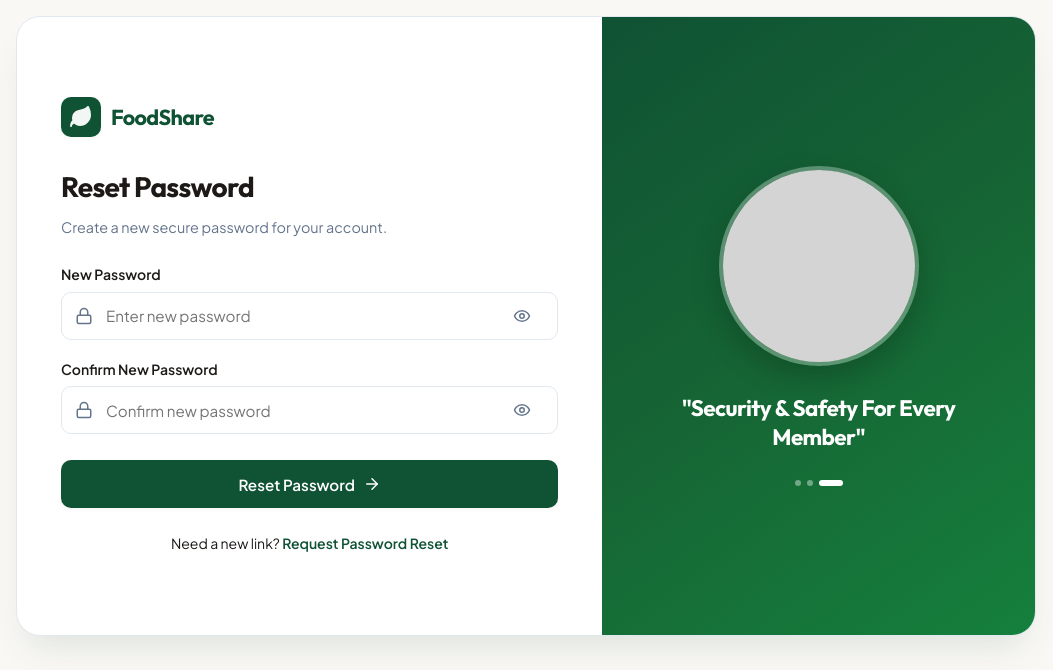
Test case: ResetPasswordPage Component › submits valid token and new password and displays success screen
This screenshot has width=1053, height=670.
Type "ValidPass123!" into the password field labelled "New Password". click: (310, 316)
box: 61,292 -> 558,340
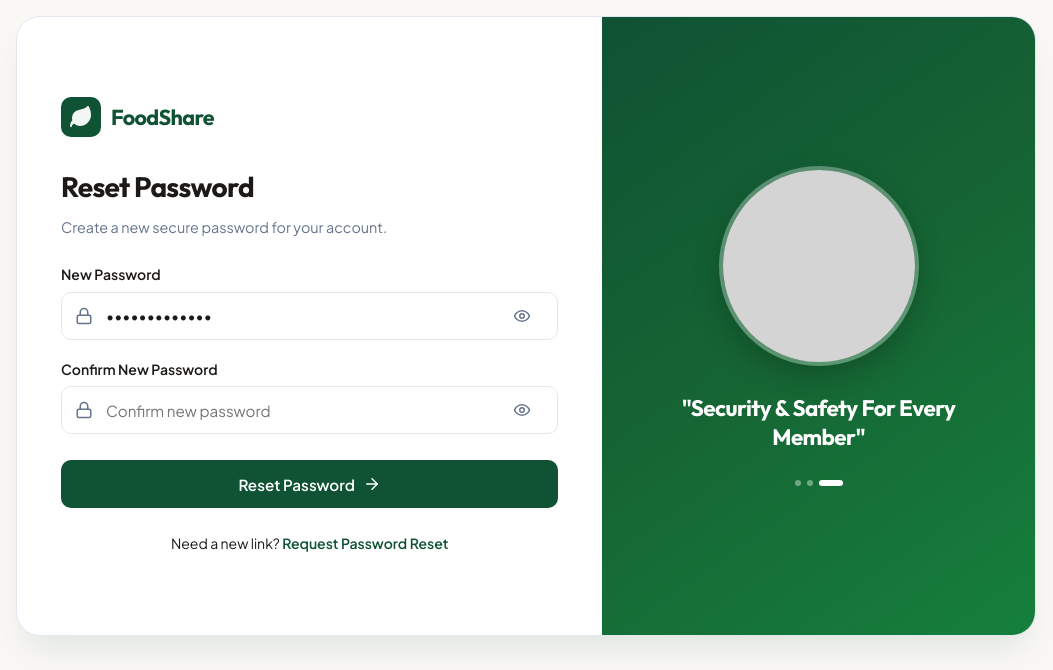
Type "ValidPass123!" into the password field labelled "Confirm New Password". click: (310, 410)
box: 61,386 -> 558,434
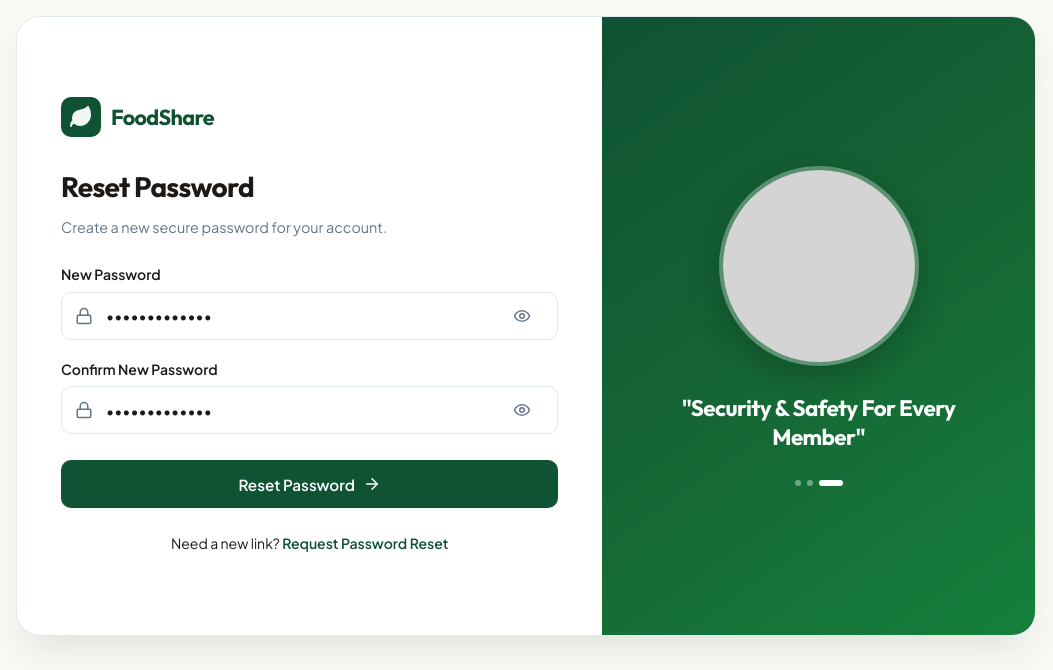
Click the button "Reset Password". click: (310, 484)
box: 61,460 -> 558,508
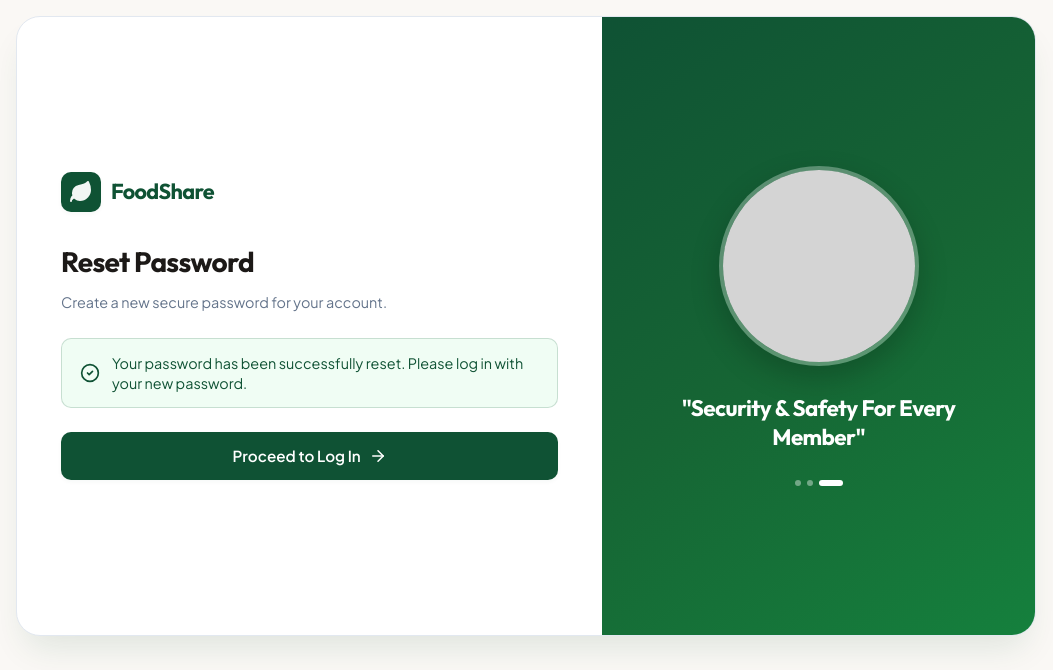
Check: the text "Your password has been successfully reset" is shown, box 112,354 -> 523,392
Check: the link "Proceed to Log In" is shown, box 61,432 -> 558,480
